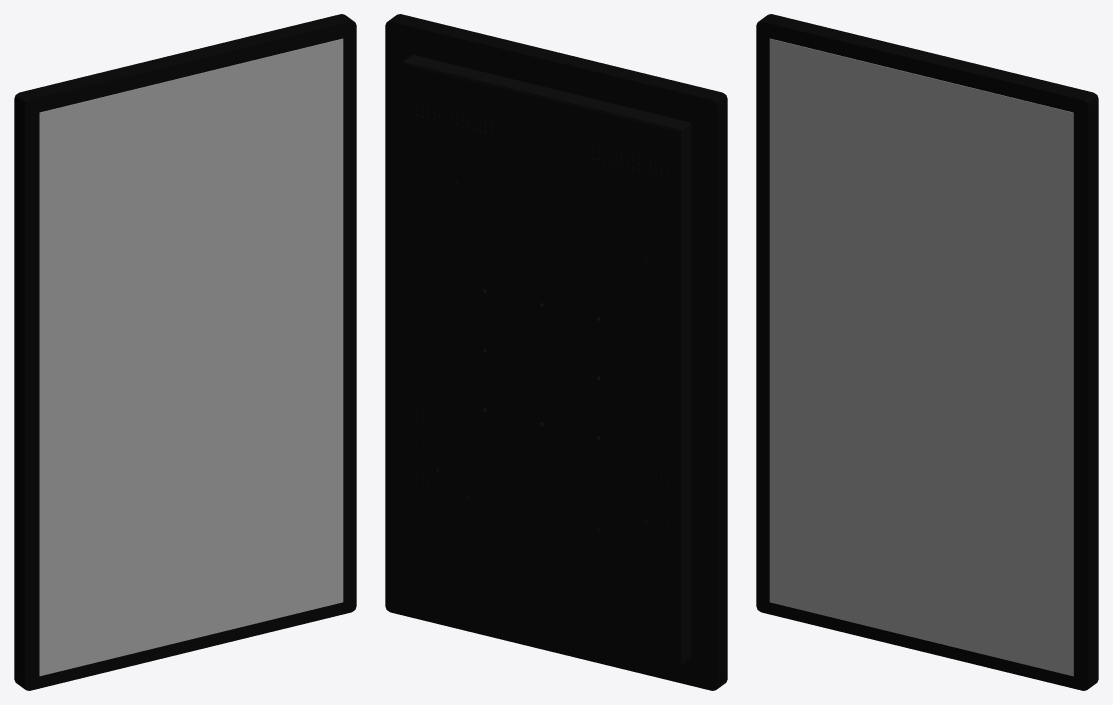
Rendered from UTC-542.fbx.
3 views of the same model, side by side, from view 1: azimuth 30°, elevation 25°; view 2: azimuth 150°, elevation 25°; view 3: azimuth 330°, elevation 25° (orthographic).
Parts seen in each view (by area): view 1: A; view 2: B, A; view 3: A.
Part boxes in pixels (<box>): A: <box>14,14,356,690</box>; B: <box>385,21,717,690</box>; A: <box>387,14,727,689</box>; A: <box>756,14,1098,690</box>.
Size of the model in its own units: 60.89 by 103 by 6.58.
3 materials, 1 textured.
